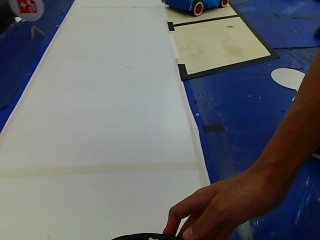battery: (10, 0, 45, 22)
